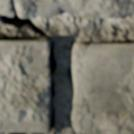brick: (72, 43, 133, 133), (0, 38, 50, 133)
broken_brick: (0, 0, 133, 18)
crack: (0, 2, 57, 131), (13, 132, 28, 133)
